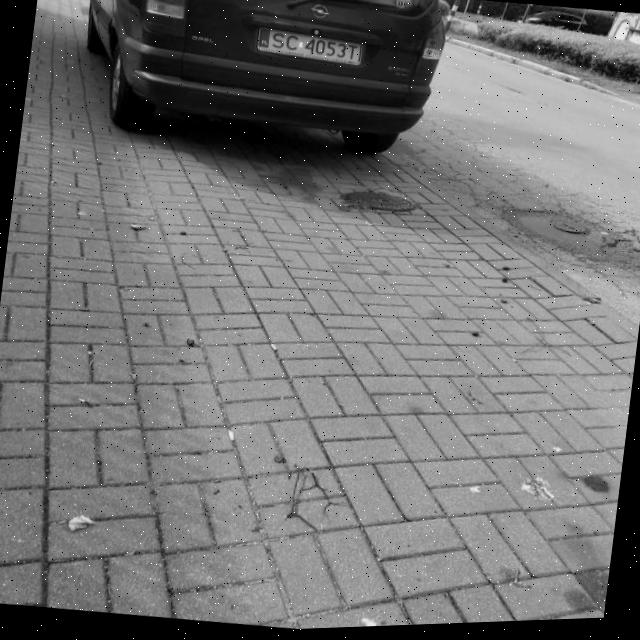license-plates: (257, 28, 363, 62)
